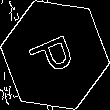P_E: (27, 28, 83, 82)
